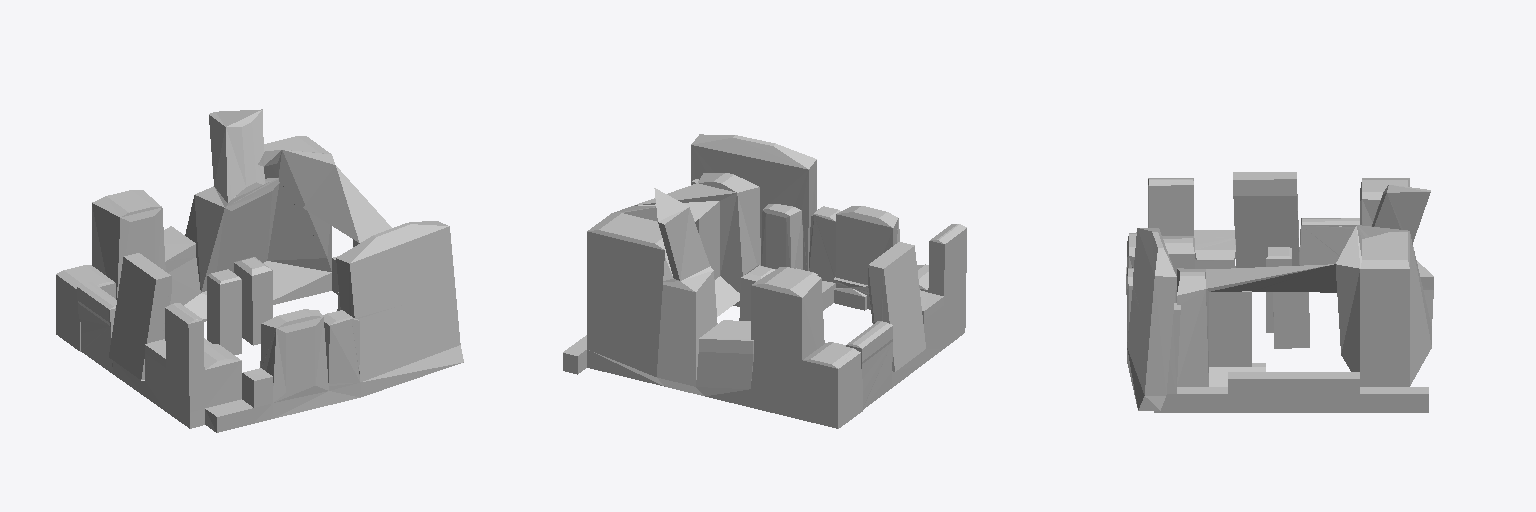
Rendered from background.obj.
The picture shows the model from 3 angles: view 1: azimuth 30°, elevation 25°; view 2: azimuth 150°, elevation 25°; view 3: azimuth 270°, elevation 25°; orthographic projection.
Bounding box in the file's own units: 512 × 331 × 497.